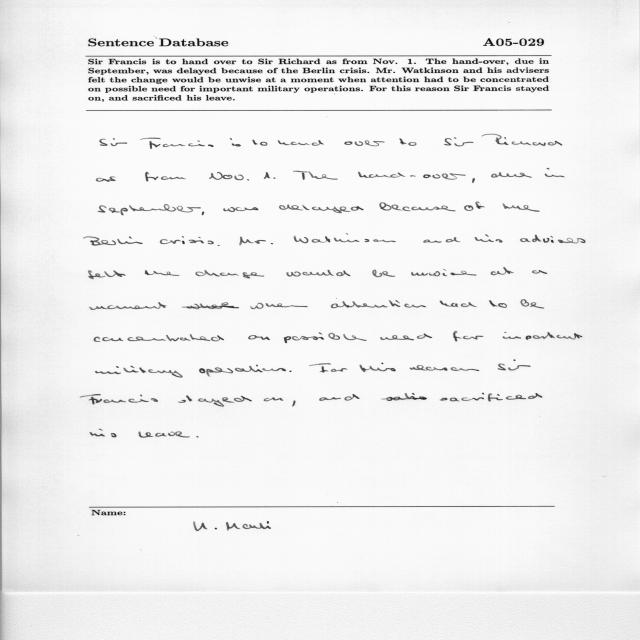word: (98, 204, 201, 215), (96, 366, 183, 378), (94, 334, 224, 342), (294, 234, 396, 244), (482, 134, 562, 146), (199, 365, 286, 376), (284, 332, 367, 343), (358, 172, 466, 180), (440, 393, 543, 401), (140, 138, 214, 149), (178, 396, 252, 407), (80, 394, 158, 404), (331, 300, 426, 308), (380, 203, 456, 212), (279, 205, 364, 213), (503, 332, 583, 340), (90, 302, 167, 310), (84, 236, 142, 246), (196, 270, 264, 278), (520, 235, 585, 243), (412, 269, 477, 276), (287, 270, 351, 277), (160, 236, 214, 244), (410, 365, 479, 371), (293, 171, 338, 180), (182, 302, 239, 309), (309, 363, 348, 373), (145, 172, 186, 181), (381, 393, 427, 401), (380, 334, 432, 341), (138, 431, 190, 438), (498, 360, 531, 371), (209, 172, 249, 181), (250, 303, 308, 309), (502, 203, 540, 212), (453, 331, 484, 342), (89, 270, 126, 279), (360, 363, 396, 372), (319, 394, 360, 401), (278, 140, 324, 146), (239, 237, 273, 245), (444, 138, 474, 147), (475, 234, 503, 243), (491, 172, 532, 178), (345, 140, 385, 146), (424, 237, 461, 243), (440, 301, 477, 307), (100, 138, 127, 146), (521, 300, 545, 309), (90, 429, 117, 437), (145, 270, 179, 276), (464, 202, 485, 211), (491, 267, 514, 275), (545, 168, 565, 177), (223, 207, 258, 212), (372, 270, 395, 277), (399, 138, 417, 146), (489, 300, 507, 308), (96, 176, 116, 182), (248, 335, 270, 340), (230, 138, 241, 147), (253, 140, 268, 146), (264, 397, 283, 401), (532, 270, 547, 274), (264, 172, 270, 179), (292, 401, 296, 407), (472, 178, 475, 183), (202, 212, 204, 216), (274, 177, 276, 179), (197, 436, 199, 438), (289, 371, 292, 372), (218, 245, 220, 246)
